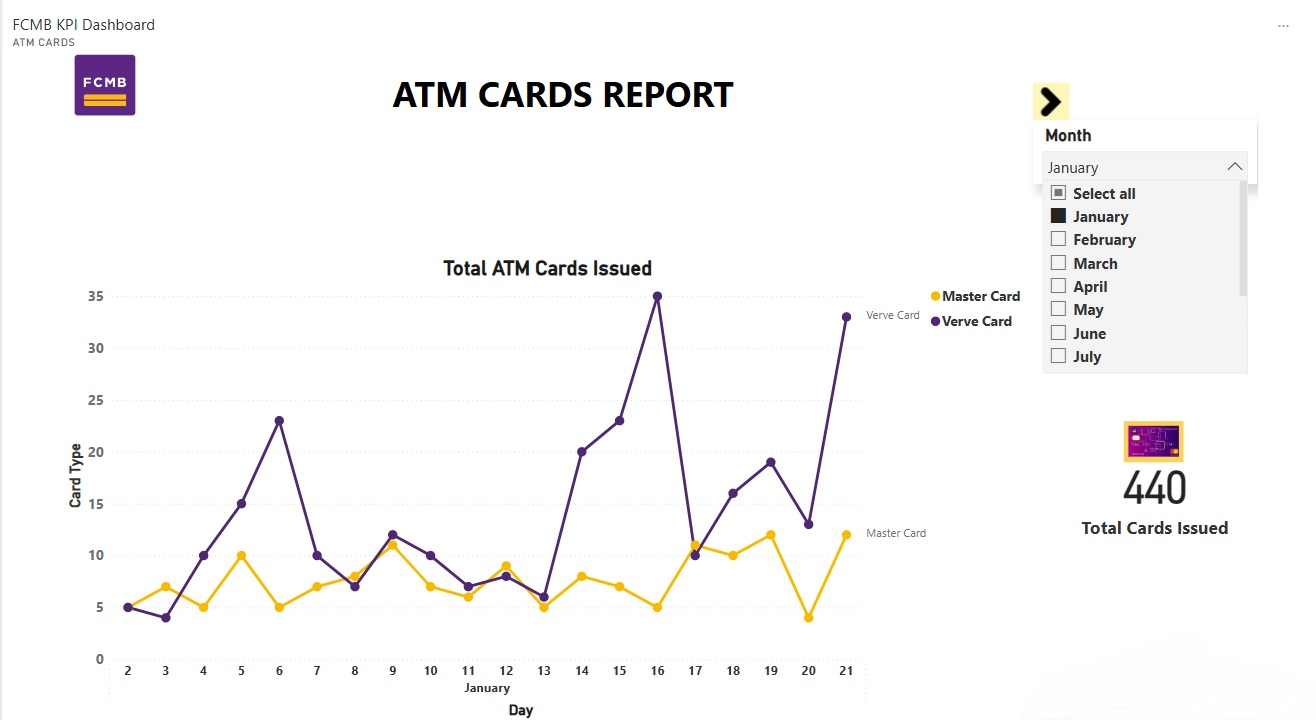

This screenshot's page, from the dashboard's own definition file:
{"tool":"powerbi","page":{"name":"ATM Cards","canvas":[1280,720],"ordinal":0},"visuals":[{"type":"card","fields":{"Values":["Sum(ATM Data.Cards Issued)"]},"box":[1081.2,369.4,198.2,101.8],"z":3000},{"type":"card","fields":{"Values":["Max(ATM Data.Cards Issued)"]},"box":[1080.4,572.6,199.6,108.7],"z":3000},{"type":"actionButton","box":[1233.2,28.9,38.5,41.3],"z":4000},{"type":"lineChart","title":"ATM CARDS ISSUED DAILY","fields":{"Y":["Sum(ATM Data.Cards Issued)"],"Category":["ATM Data.Date.Variation.Date Hierarchy.Month","ATM Data.Date.Variation.Date Hierarchy.Day"]},"box":[0,220.2,1040.5,499.6],"z":6062},{"type":"slicer","fields":{"Values":["ATM Data.Date.Variation.Date Hierarchy.Month"]},"box":[1048.3,78.1,214.8,68.3],"z":6125},{"type":"textbox","box":[161,13.8,717.1,61.9],"z":6250},{"type":"image","box":[0,0,92.1,75.4],"z":6500}]}

Visuals, with their boxes on the page's 1280x720 design canvas (x1, y1, x2, y2). These are canvas units, not pixel positions in the 1316x720 screenshot, which may show the page scaled, cropped or inside an application window:
card - Sum(ATM Data.Cards Issued): rect(1081, 369, 1279, 471)
card - Max(ATM Data.Cards Issued): rect(1080, 573, 1280, 681)
actionButton: rect(1233, 29, 1272, 70)
"ATM CARDS ISSUED DAILY" lineChart: rect(0, 220, 1040, 720)
slicer - ATM Data.Date.Variation.Date Hierarchy.Month: rect(1048, 78, 1263, 146)
textbox: rect(161, 14, 878, 76)
image: rect(0, 0, 92, 75)
